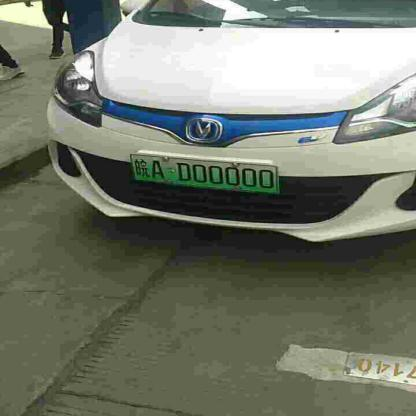lp: (132, 155, 279, 194)
